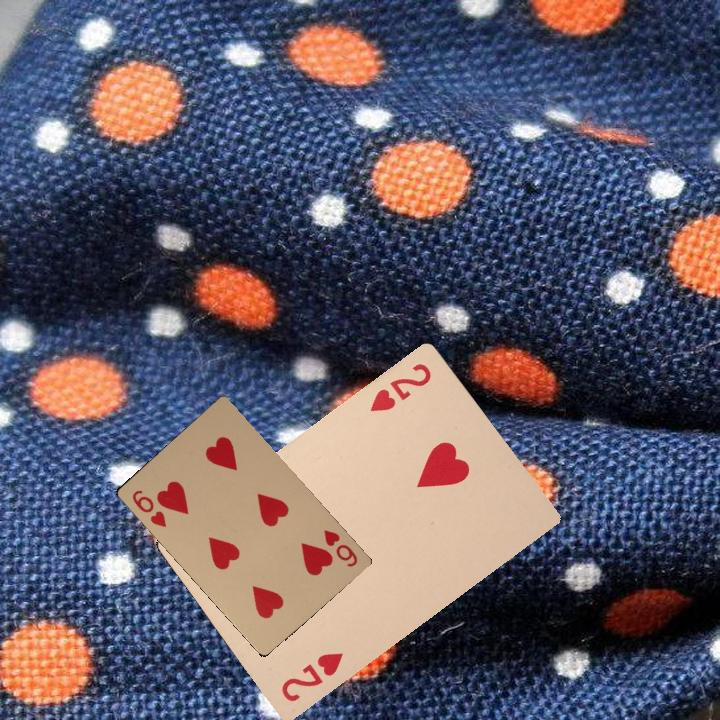2h: (365, 358, 434, 415), (277, 648, 346, 705)
6h: (319, 526, 360, 570), (128, 486, 168, 530)
